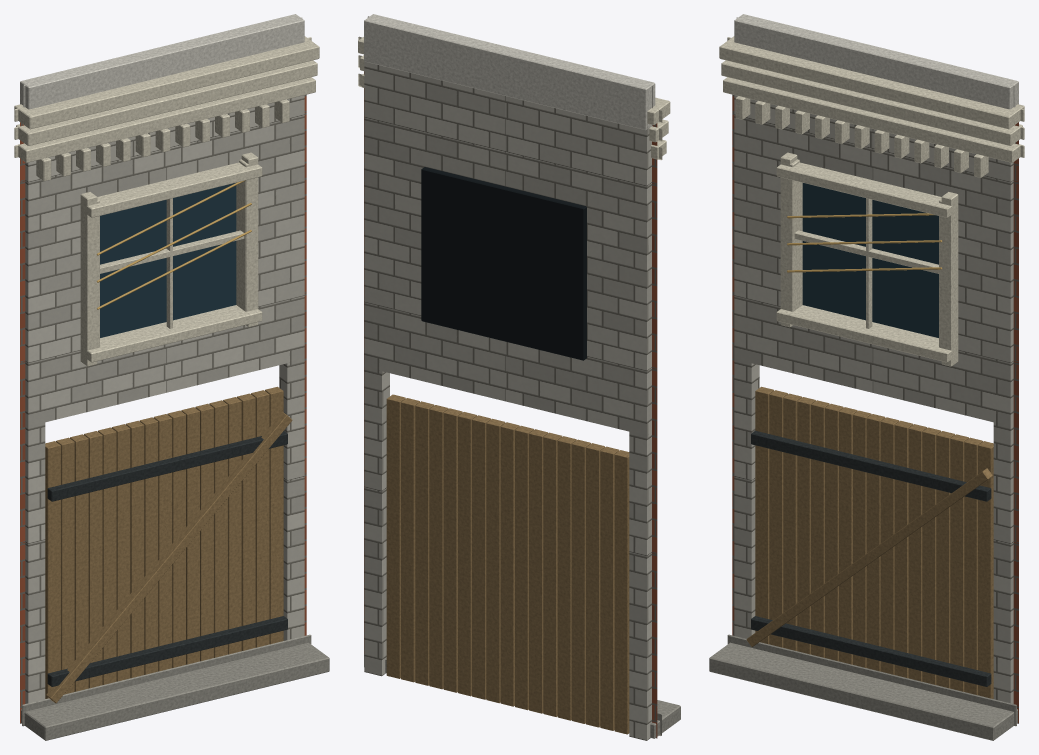
Rendered from WHSE12_lod1.glb.
3 views of the same model, side by side, from view 1: azimuth 30°, elevation 25°; view 2: azimuth 150°, elevation 25°; view 3: azimuth 330°, elevation 25° (orthographic). The views are drawn at different scales.
Parts seen in each view (by area): view 1: WHSE12_FRONT_LOD1; view 2: WHSE12_FRONT_LOD1; view 3: WHSE12_FRONT_LOD1.
Boxes of the visible parts, bbox=[...] form: WHSE12_FRONT_LOD1: bbox=[14, 14, 329, 740]; WHSE12_FRONT_LOD1: bbox=[358, 14, 680, 740]; WHSE12_FRONT_LOD1: bbox=[709, 14, 1024, 740].
Size of the model in its own units: 3.44 by 7.05 by 0.65.
11 materials, 8 textured.
